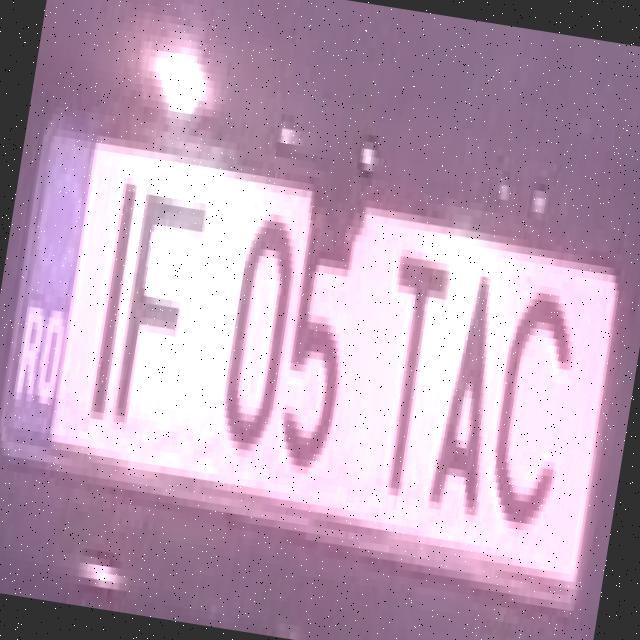EU: (0, 128, 616, 605)
Romanie: (0, 128, 100, 456)
